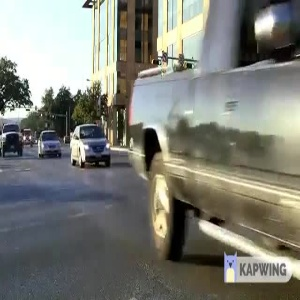car: (65, 120, 111, 168), (35, 128, 65, 160)
truck: (128, 1, 300, 259), (1, 117, 25, 158)
